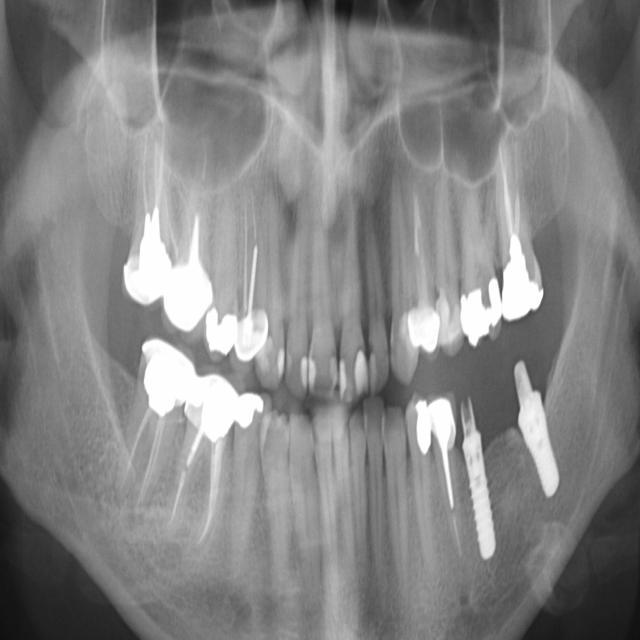infected-teeth: (114, 338, 197, 513), (168, 372, 245, 548), (119, 99, 181, 307), (491, 139, 545, 338), (166, 133, 213, 329), (428, 388, 466, 562), (234, 195, 266, 378)
